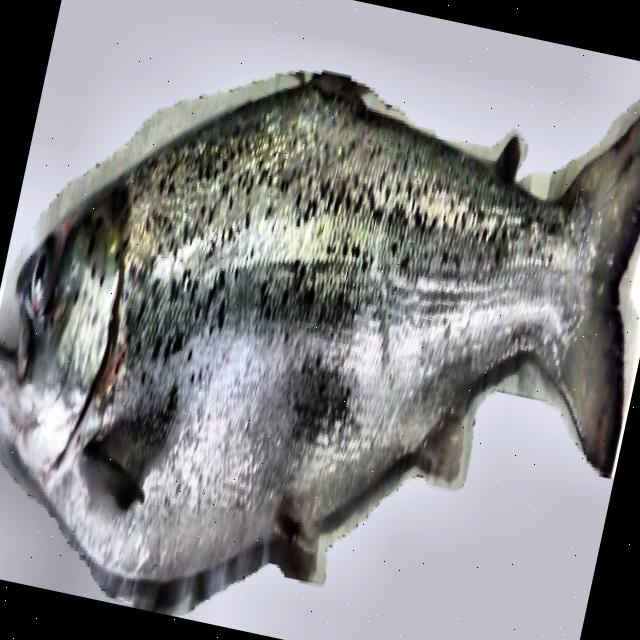mild_red: (110, 86, 588, 577)
